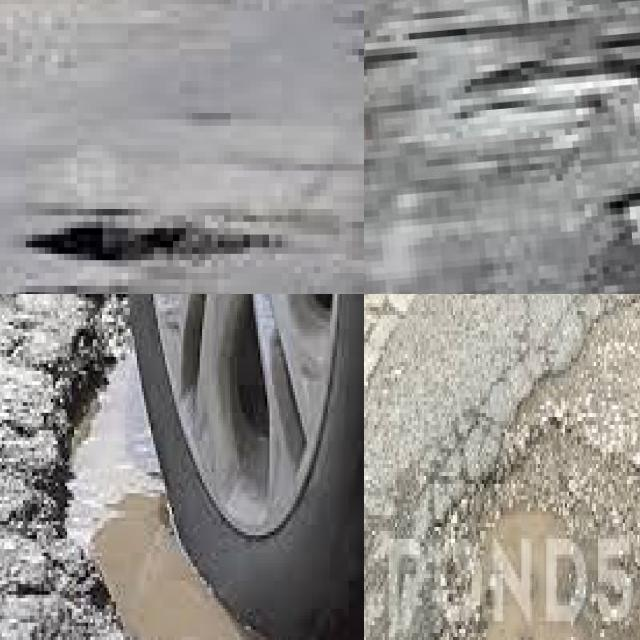Pothole: (74, 336, 258, 640), (449, 441, 631, 640), (26, 215, 282, 267), (453, 59, 638, 118), (399, 13, 590, 45), (598, 26, 640, 53), (413, 11, 464, 20)
